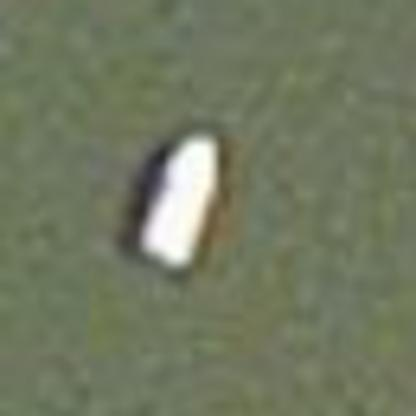ship: (119, 112, 233, 285)
